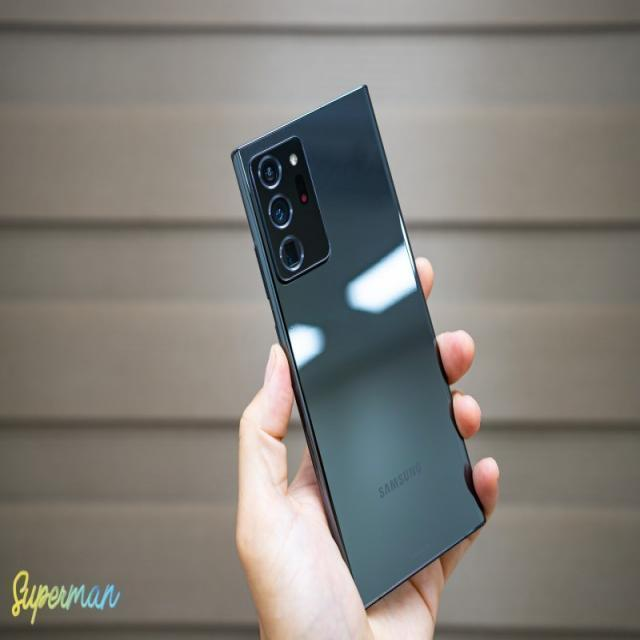phone: (227, 83, 491, 612)
